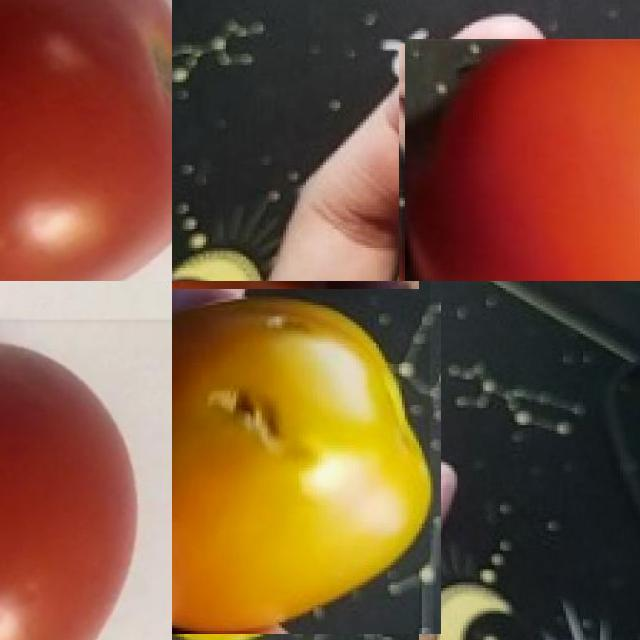Fresh Tomato: (402, 41, 640, 281), (0, 318, 172, 640), (0, 0, 172, 281)
Rotten Tomato: (172, 281, 429, 640)
